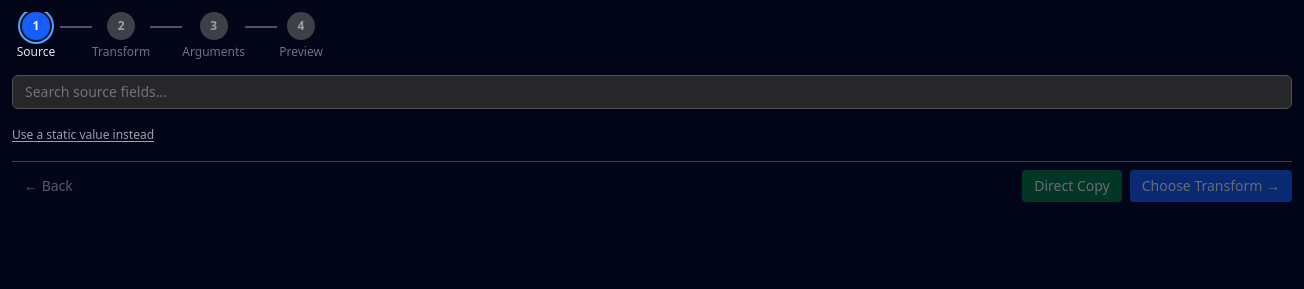
Test: GuidedBuilder › Direct Copy button is enabled after one field is selected
The width and height of the screenshot is (1304, 289).
// Open suggestions and click customer.name
Step 1. Click the dropdown labelled "Search source fields" → coordinates (652, 92), box [12,75,1292,109]
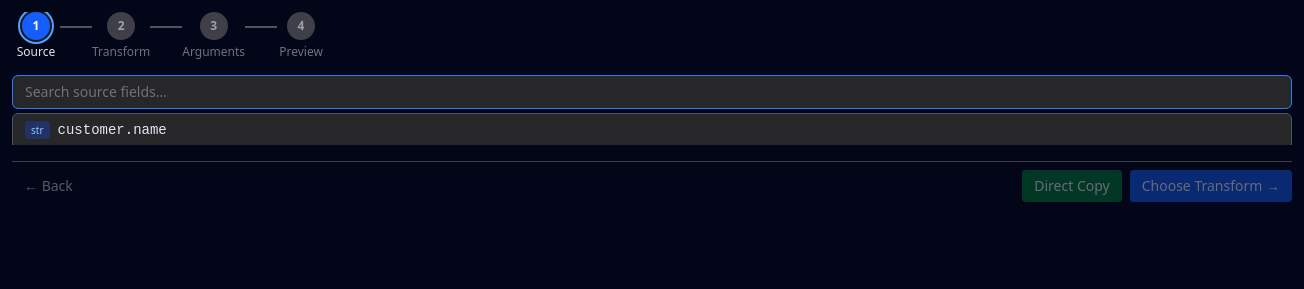
Step 2. Click the text "customer.name" → coordinates (112, 130), box [58,120,167,140]
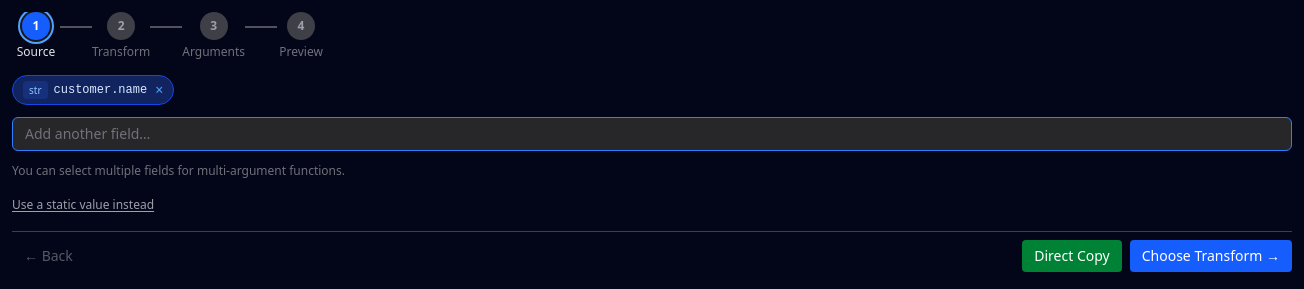
Now the button with aria-label "Direct copy — use selected field without transform" is enabled, box [1022,240,1122,272]
